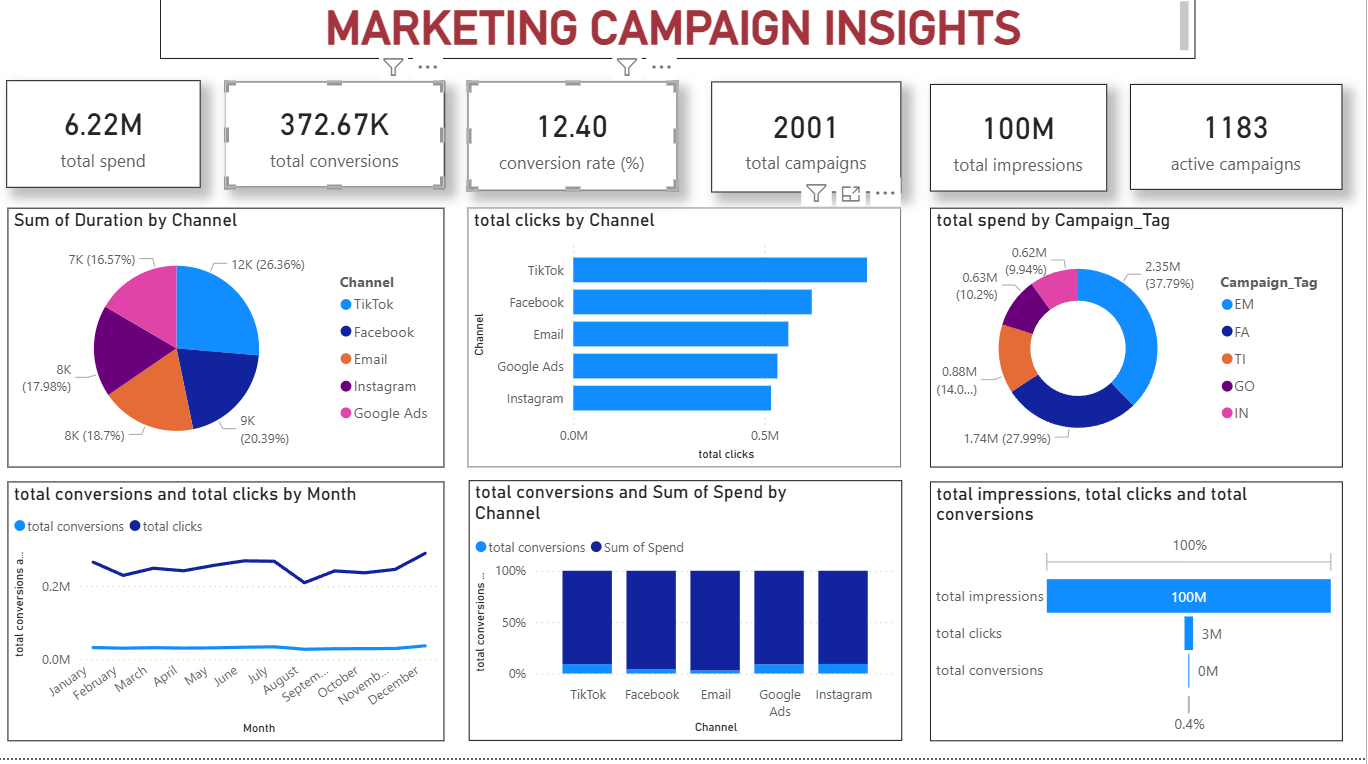

Layout of this report page (visuals, bound fields, positions):
{"tool":"powerbi","page":{"name":"marketing campaign dashbord","canvas":[1280,720],"ordinal":0},"visuals":[{"type":"card","fields":{"Values":["Cleaned Campaign.total spend"]},"box":[15.1,89.2,181.1,100.2],"z":0},{"type":"card","fields":{"Values":["Cleaned Campaign.total conversions"]},"box":[218.2,90.6,204.5,98.8],"z":1000},{"type":"card","fields":{"Values":["Cleaned Campaign.conversion rate (%)"]},"box":[444.6,90.6,194.9,101.5],"z":2000},{"type":"card","fields":{"Values":["Cleaned Campaign.total campaigns"]},"box":[671,90.6,177,102.9],"z":3000},{"type":"card","fields":{"Values":["Cleaned Campaign.total impressions"]},"box":[874.1,93.3,164.7,100.2],"z":4000},{"type":"card","fields":{"Values":["Cleaned Campaign.active campaigns"]},"box":[1060.7,93.3,197.6,98.8],"z":5000},{"type":"textbox","box":[157.8,11,963.3,59],"z":6000},{"type":"pieChart","fields":{"Y":["Sum(Cleaned Campaign.Duration)"],"Category":["Cleaned Campaign.Channel"]},"box":[16.5,208.6,406.2,241.5],"z":7000},{"type":"clusteredBarChart","fields":{"Y":["Cleaned Campaign.total clicks"],"Category":["Cleaned Campaign.Channel"]},"box":[444.6,208.6,403.4,241.5],"z":8000},{"type":"donutChart","fields":{"Category":["Cleaned Campaign.Campaign_Tag"],"Y":["Cleaned Campaign.total spend"]},"box":[874.1,208.6,384.2,241.5],"z":9000},{"type":"lineChart","fields":{"Y":["Cleaned Campaign.total conversions","Cleaned Campaign.total clicks"],"Category":["Cleaned Campaign.Start_Date.Variation.Date Hierarchy.Month"]},"box":[16.5,462.4,406.2,241.5],"z":10000},{"type":"hundredPercentStackedColumnChart","fields":{"Category":["Cleaned Campaign.Channel"],"Y":["Cleaned Campaign.total conversions","Sum(Cleaned Campaign.Spend)"]},"box":[445,462,403,242],"z":11000},{"type":"funnel","fields":{"Y":["Cleaned Campaign.total impressions","Cleaned Campaign.total clicks","Cleaned Campaign.total conversions"]},"box":[874.1,462.4,384.2,241.5],"z":12000}]}

Visuals, with their boxes in screenshot pixels (x1, y1, x2, y2), scaled from the page's 1280x720 canvas onto the 1368x764 screenshot:
card - Cleaned Campaign.total spend: bbox=(16, 95, 210, 201)
card - Cleaned Campaign.total conversions: bbox=(233, 96, 452, 201)
card - Cleaned Campaign.conversion rate (%): bbox=(475, 96, 683, 204)
card - Cleaned Campaign.total campaigns: bbox=(717, 96, 906, 205)
card - Cleaned Campaign.total impressions: bbox=(934, 99, 1110, 205)
card - Cleaned Campaign.active campaigns: bbox=(1134, 99, 1345, 204)
textbox: bbox=(169, 12, 1198, 74)
pieChart - Sum(Cleaned Campaign.Duration) x Cleaned Campaign.Channel: bbox=(18, 221, 452, 478)
clusteredBarChart - Cleaned Campaign.total clicks x Cleaned Campaign.Channel: bbox=(475, 221, 906, 478)
donutChart - Cleaned Campaign.Campaign_Tag x Cleaned Campaign.total spend: bbox=(934, 221, 1345, 478)
lineChart - Cleaned Campaign.total conversions x Cleaned Campaign.total clicks: bbox=(18, 491, 452, 747)
hundredPercentStackedColumnChart - Cleaned Campaign.Channel x Cleaned Campaign.total conversions: bbox=(476, 490, 906, 747)
funnel - Cleaned Campaign.total impressions x Cleaned Campaign.total clicks: bbox=(934, 491, 1345, 747)
